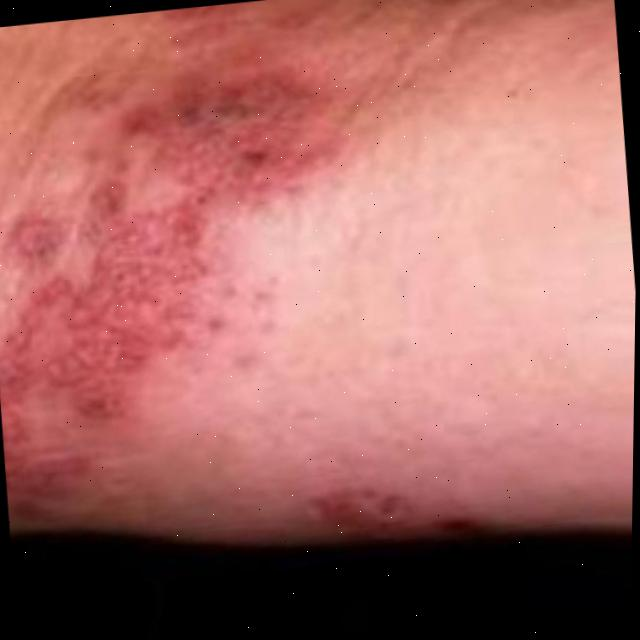Shingles: (0, 39, 364, 450)
